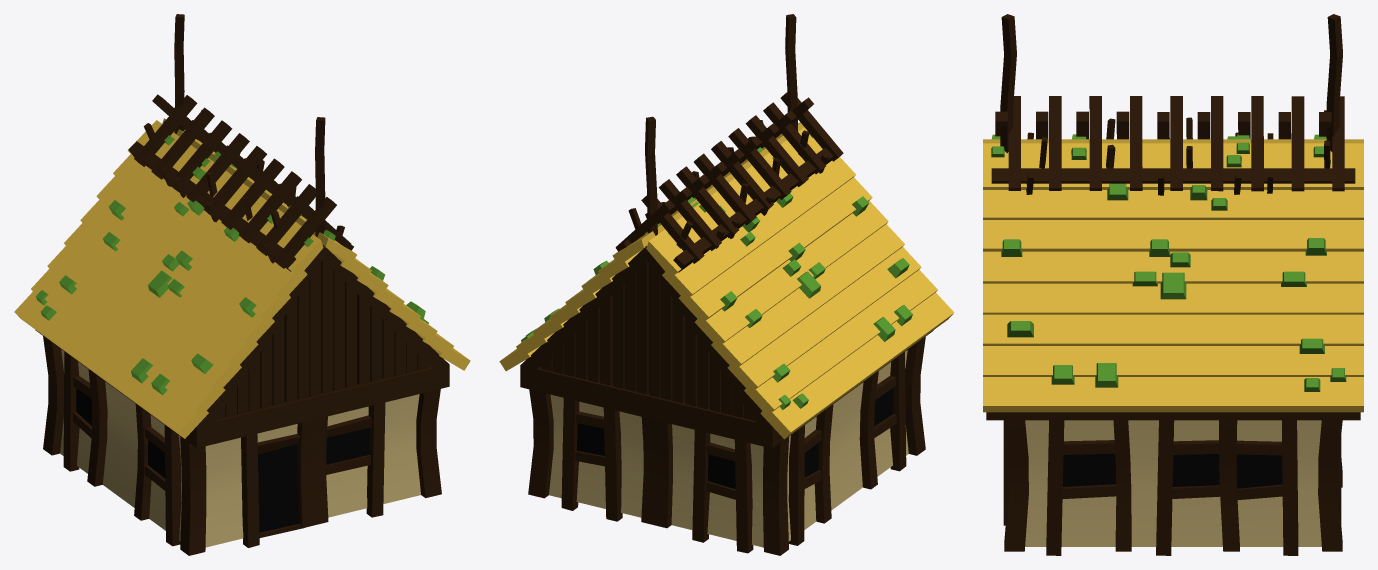
Rendered from PeasantHouseA.fbx.
3 views of the same model, side by side, from view 1: azimuth 30°, elevation 25°; view 2: azimuth 150°, elevation 25°; view 3: azimuth 270°, elevation 25° (orthographic). The views are drawn at different scales.
Visible parts, largest first — view 1: PeasantHouseA; view 2: PeasantHouseA; view 3: PeasantHouseA.
Boxes of the visible parts, x1,y1,x2,y2 form: PeasantHouseA: [14, 14, 470, 555]; PeasantHouseA: [499, 14, 954, 555]; PeasantHouseA: [983, 14, 1363, 555].
Size of the model in its own units: 360 by 482 by 350.
